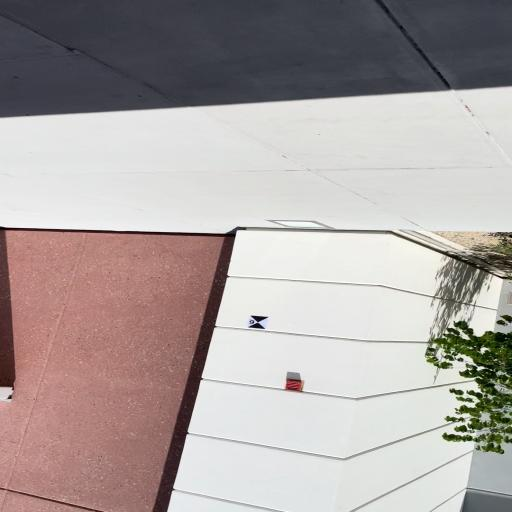target6: (247, 315, 269, 330)
